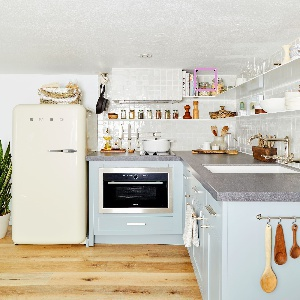square: (192, 67, 220, 91)
